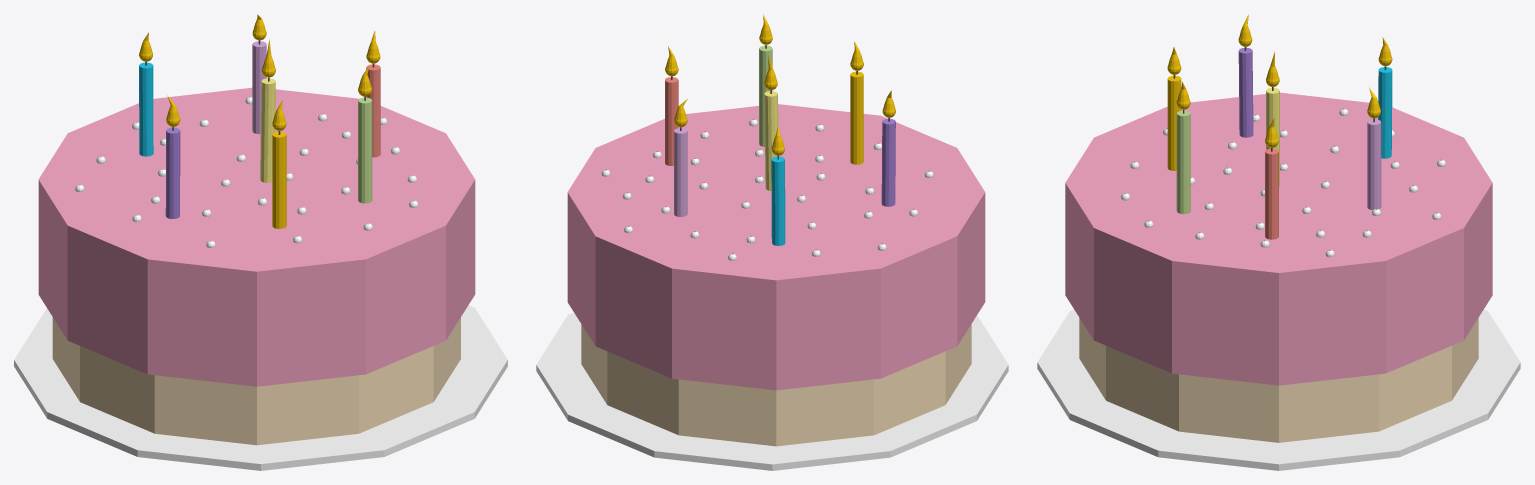
Rendered from Cake.glb.
The picture shows the model from 3 angles, left to right: view 1: azimuth 30°, elevation 25°; view 2: azimuth 150°, elevation 25°; view 3: azimuth 270°, elevation 25°; orthographic projection. The views are drawn at different scales.
Parts seen in each view (by area): view 1: group1157025382, group1753841854, group26760615, group407686768, group1452395530, group702158516, group474354827, group1711277926, group1226348779, group398001595; view 2: group1157025382, group1753841854, group26760615, group474354827, group1452395530, group1711277926, group1226348779, group702158516, group398001595, group407686768; view 3: group1157025382, group1753841854, group26760615, group407686768, group1226348779, group1711277926, group398001595, group474354827, group1452395530, group702158516.
Part boxes in pixels (left/top/right/bottom): group1157025382: left=38, top=87, right=475, bottom=386; group1753841854: left=52, top=317, right=460, bottom=445; group26760615: left=14, top=305, right=507, bottom=470; group407686768: left=358, top=97, right=372, bottom=203; group1452395530: left=272, top=131, right=286, bottom=228; group702158516: left=260, top=78, right=275, bottom=182; group474354827: left=139, top=62, right=153, bottom=156; group1711277926: left=165, top=127, right=180, bottom=218; group1226348779: left=252, top=41, right=266, bottom=134; group398001595: left=366, top=64, right=380, bottom=157; group1157025382: left=567, top=104, right=985, bottom=390; group1753841854: left=581, top=324, right=971, bottom=446; group26760615: left=536, top=312, right=1008, bottom=470; group474354827: left=771, top=156, right=785, bottom=245; group1452395530: left=850, top=71, right=863, bottom=164; group1711277926: left=881, top=119, right=895, bottom=206; group1226348779: left=674, top=128, right=687, bottom=216; group702158516: left=764, top=91, right=778, bottom=190; group398001595: left=665, top=77, right=678, bottom=165; group407686768: left=759, top=45, right=772, bottom=146; group1157025382: left=1065, top=92, right=1492, bottom=385; group1753841854: left=1079, top=318, right=1478, bottom=442; group26760615: left=1037, top=309, right=1520, bottom=470; group407686768: left=1176, top=110, right=1190, bottom=214; group1226348779: left=1367, top=119, right=1381, bottom=209; group1711277926: left=1238, top=47, right=1253, bottom=137; group398001595: left=1265, top=148, right=1278, bottom=239; group474354827: left=1378, top=67, right=1392, bottom=158; group1452395530: left=1167, top=75, right=1181, bottom=170; group702158516: left=1266, top=87, right=1279, bottom=186.
Bounding box in the file's own units: 1.04 × 0.7622 × 1.04.
